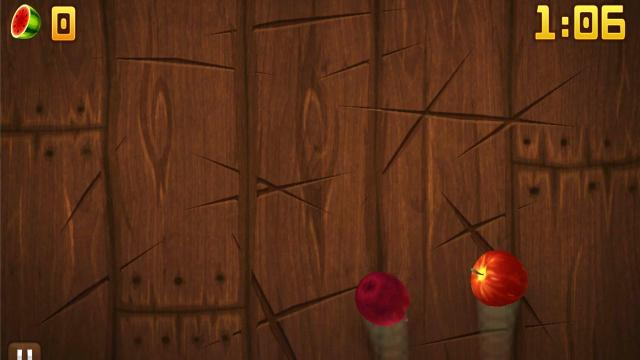fruit: (469, 250, 528, 306), (354, 270, 411, 326)
ignore: (9, 3, 43, 41)
